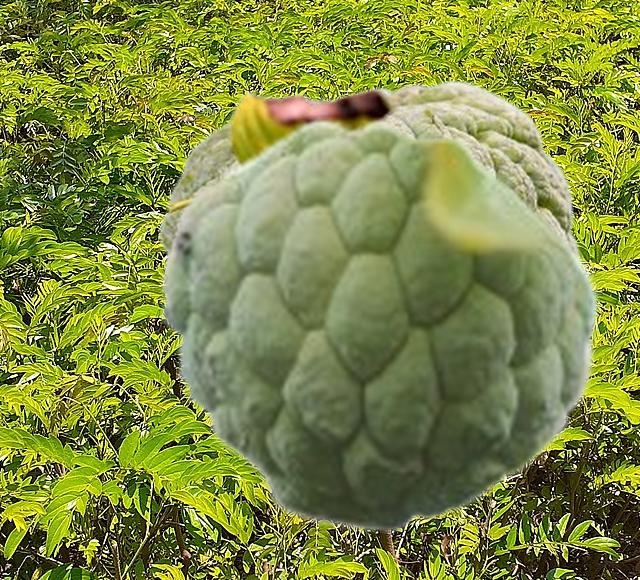atis: (158, 117, 602, 532), (157, 78, 579, 253)
